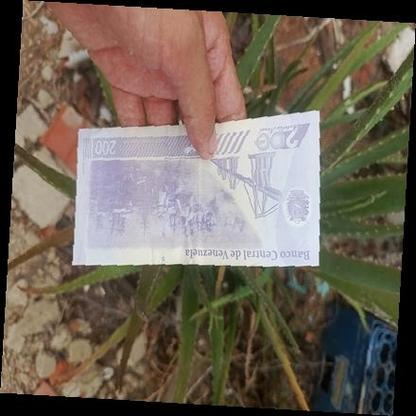two_hundred-back-vef: (71, 110, 321, 266)
